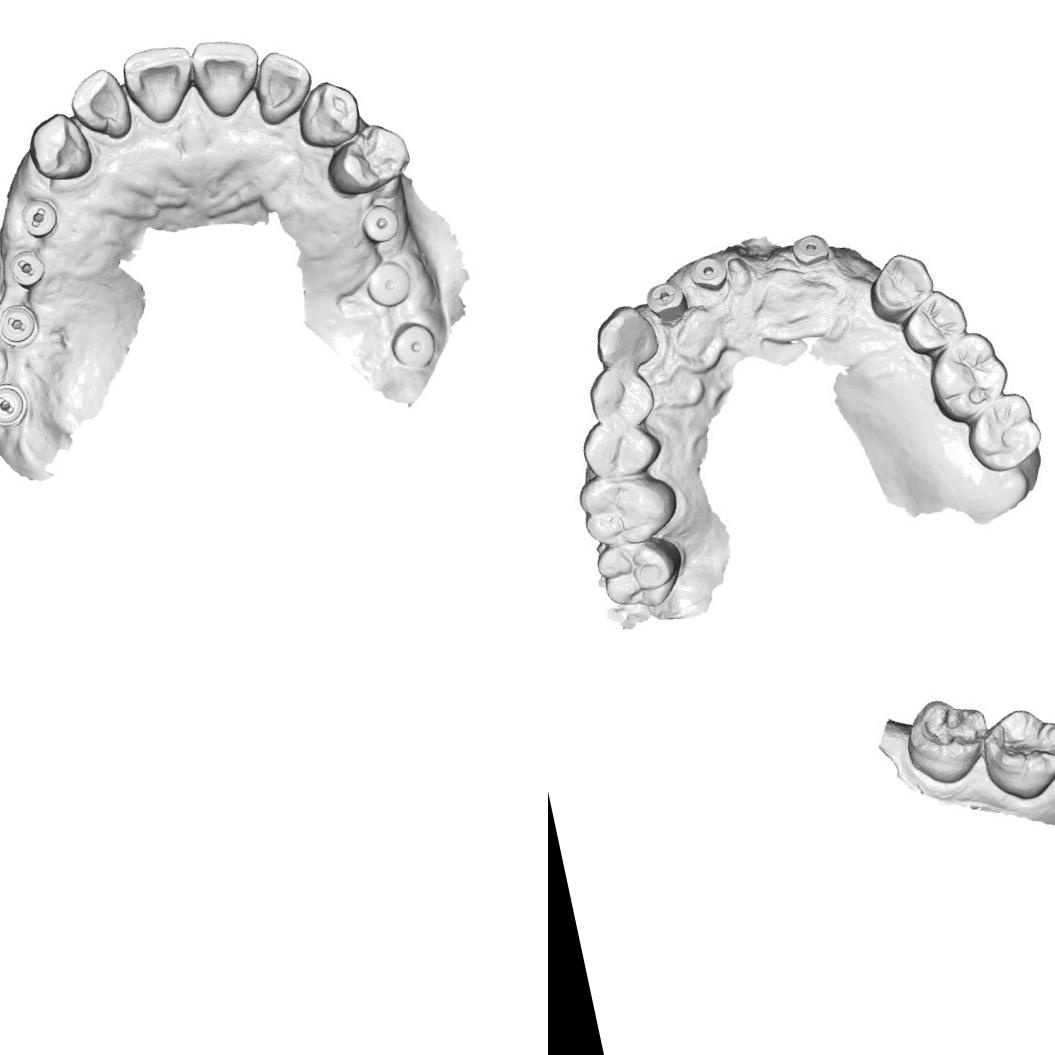canine: (23, 107, 98, 188), (290, 76, 365, 154), (588, 306, 662, 372)
implant: (364, 256, 413, 310), (390, 318, 436, 371), (355, 198, 403, 246), (786, 226, 834, 271), (686, 251, 728, 293)
implant_minus: (4, 244, 53, 288), (0, 303, 45, 350), (19, 195, 63, 238), (0, 381, 30, 429)
implant_plus: (640, 276, 687, 322)
incisor: (182, 27, 268, 122), (119, 42, 202, 131), (62, 64, 136, 147), (245, 45, 319, 126)
inlay: (916, 696, 986, 761)
molar: (574, 464, 680, 548), (926, 331, 1014, 422), (594, 534, 686, 616), (975, 701, 1055, 795), (968, 389, 1042, 470)
premolar: (316, 116, 415, 202), (576, 414, 664, 482), (863, 248, 936, 315), (584, 364, 654, 426), (903, 285, 967, 346)
